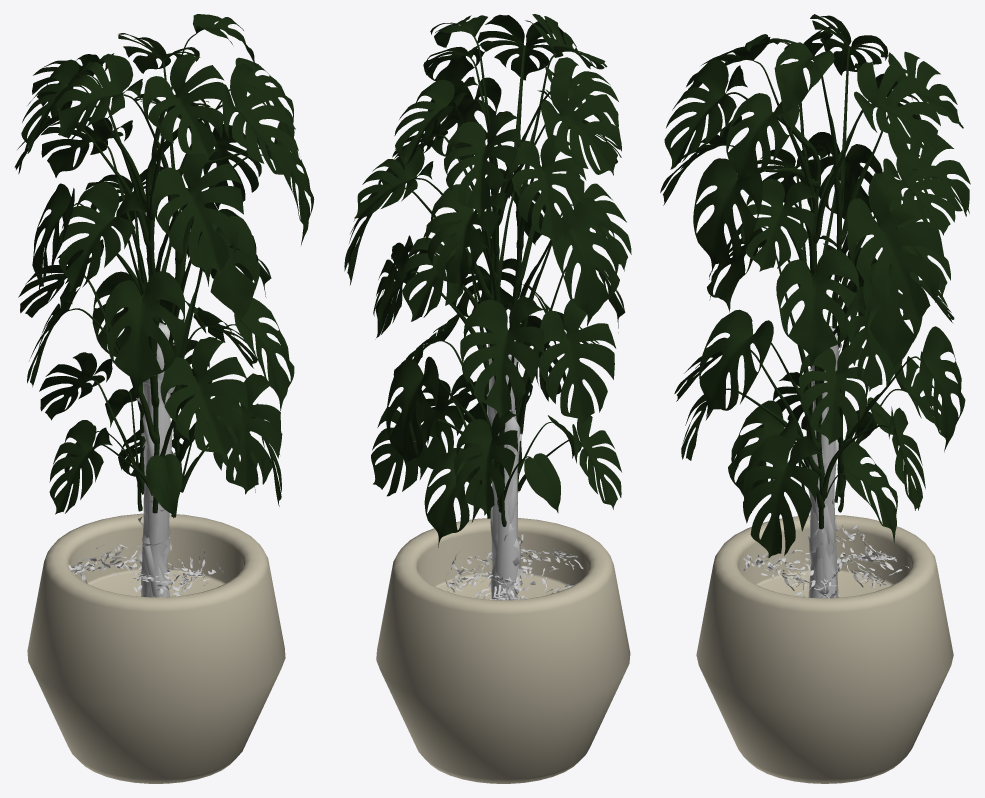
File: tanaman.obj
3 renders of one model, left to right at view 1: azimuth 30°, elevation 25°; view 2: azimuth 150°, elevation 25°; view 3: azimuth 270°, elevation 25°, orthographic.
Parts seen in each view (by area): view 1: Soil_Mesh.021; view 2: Soil_Mesh.021; view 3: Soil_Mesh.021.
Boxes of the visible parts, bbox=[...] form: Soil_Mesh.021: bbox=[14, 14, 314, 783]; Soil_Mesh.021: bbox=[344, 14, 631, 783]; Soil_Mesh.021: bbox=[660, 14, 970, 783].
Size of the model in its own units: 0.4671 by 1.29 by 0.5024.
